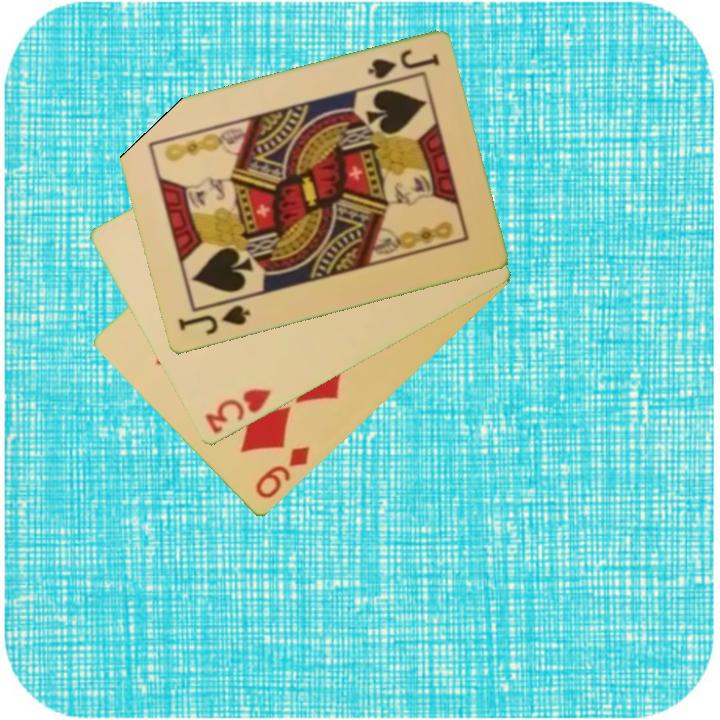3h: (201, 385, 274, 437)
9d: (252, 443, 313, 502)
Js: (174, 301, 253, 339), (363, 46, 442, 83)
